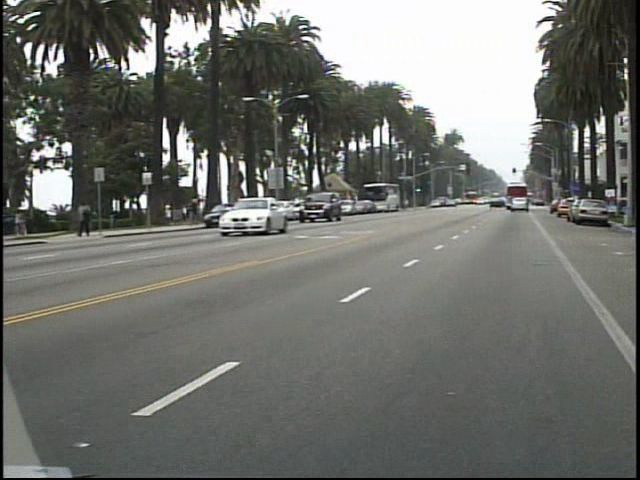person: (81, 194, 103, 239), (192, 190, 212, 225)
